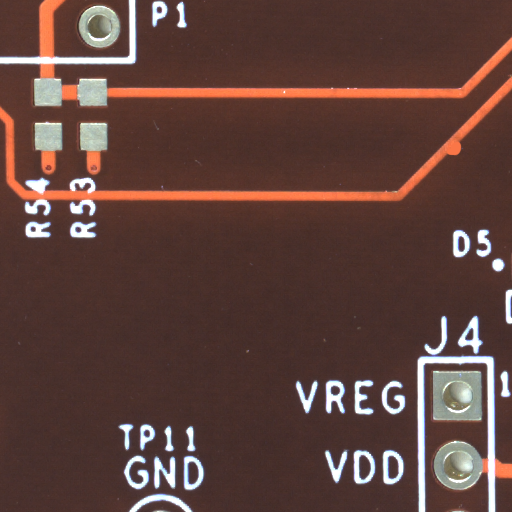Spur: (453, 148, 468, 163)
